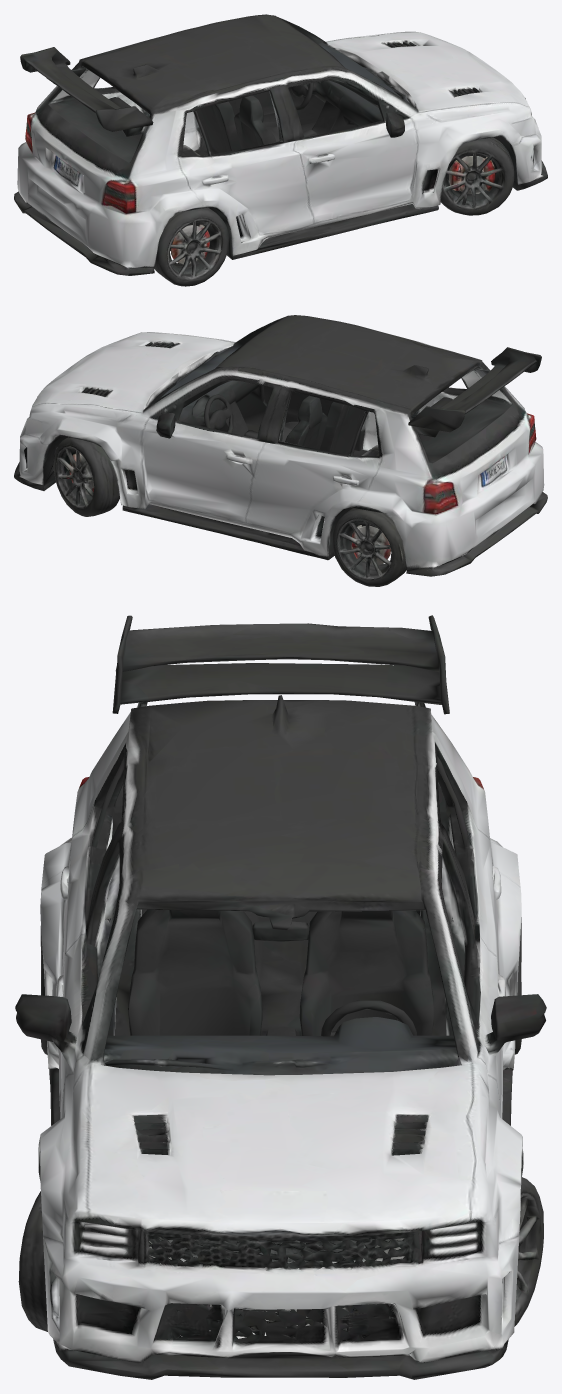
Rendered from stingbolt.glb.
3 views of the same model, one above another, from view 1: azimuth 30°, elevation 25°; view 2: azimuth 150°, elevation 25°; view 3: azimuth 270°, elevation 25° (orthographic). The views are drawn at different scales.
Visible parts, largest first — view 1: tripo_node_fe341745-8def-4caf-93bc-72e35ab94070; view 2: tripo_node_fe341745-8def-4caf-93bc-72e35ab94070; view 3: tripo_node_fe341745-8def-4caf-93bc-72e35ab94070.
Part boxes in pixels (x1=…): tripo_node_fe341745-8def-4caf-93bc-72e35ab94070: x1=14, y1=14, x2=547, y2=286; tripo_node_fe341745-8def-4caf-93bc-72e35ab94070: x1=14, y1=315, x2=547, y2=586; tripo_node_fe341745-8def-4caf-93bc-72e35ab94070: x1=15, y1=615, x2=546, y2=1379.
Bounding box in the file's own units: 1 × 0.3786 × 0.5051.
1 material, 1 textured.
